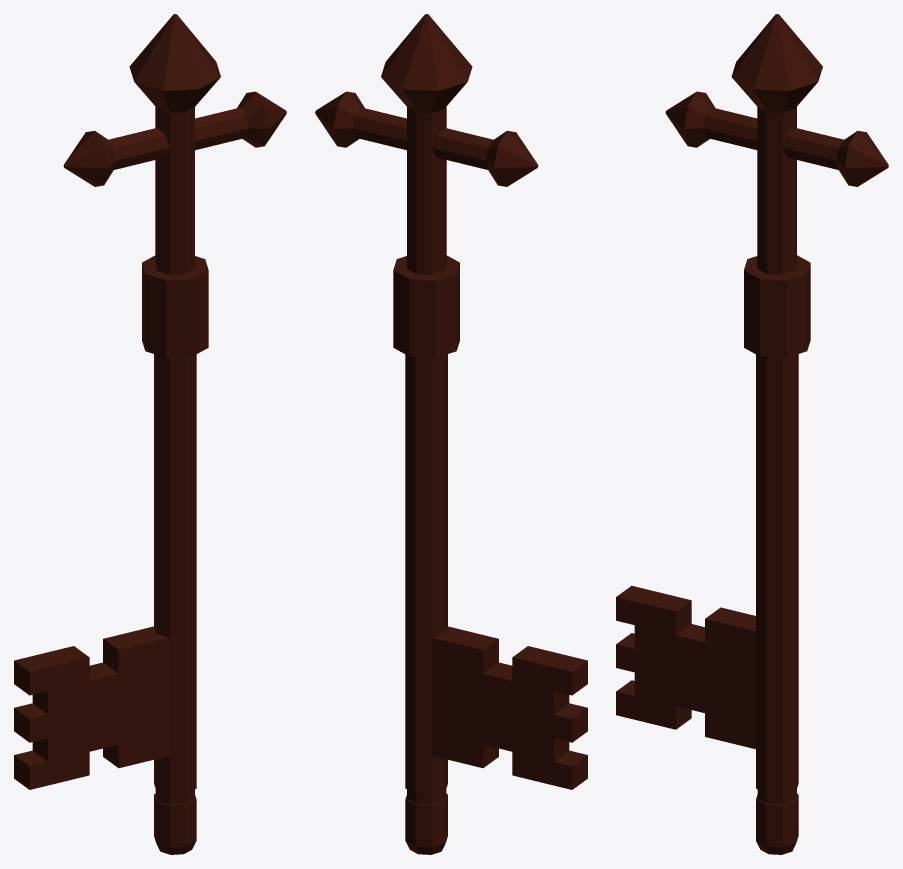
Rendered from llave_cruz.fbx.
3 views of the same model, side by side, from view 1: azimuth 30°, elevation 25°; view 2: azimuth 150°, elevation 25°; view 3: azimuth 330°, elevation 25° (orthographic).
Visible parts, largest first — view 1: llave_cruz; view 2: llave_cruz; view 3: llave_cruz.
Boxes of the visible parts, x1=… form: llave_cruz: x1=14, y1=14, x2=286, y2=854; llave_cruz: x1=315, y1=14, x2=587, y2=854; llave_cruz: x1=616, y1=14, x2=888, y2=854.
Bounding box in the file's own units: 60.7 × 184 × 18.88.
